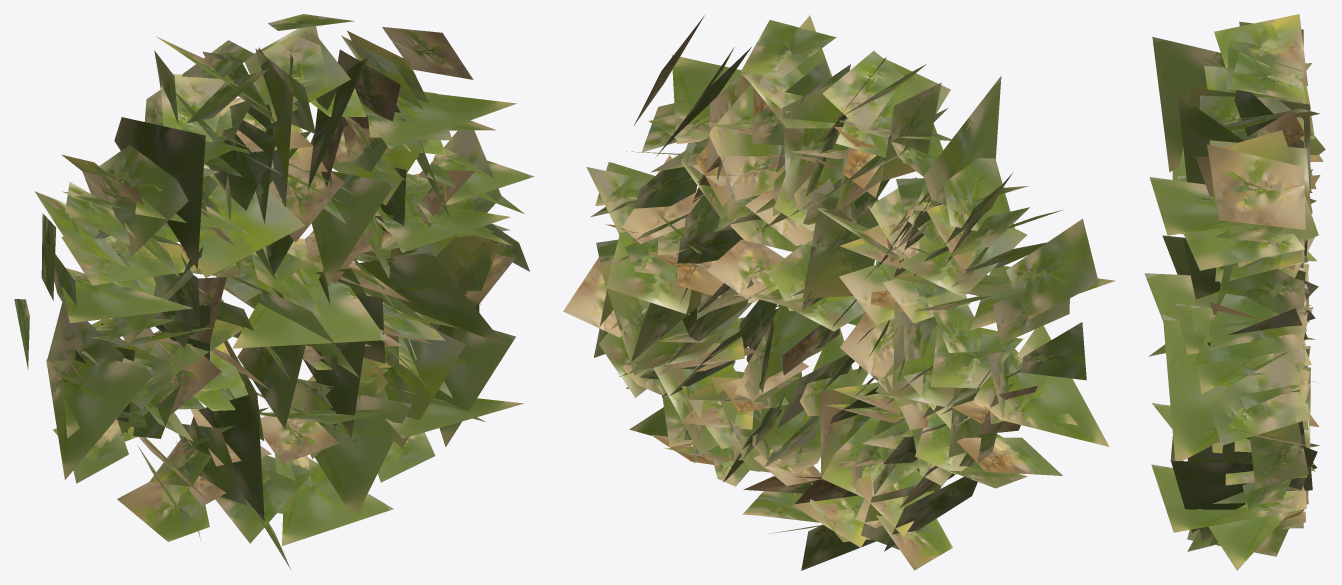
Rendered from Grass_01_Var1_LOD2.fbx.
3 renders of one model, left to right at view 1: azimuth 30°, elevation 25°; view 2: azimuth 150°, elevation 25°; view 3: azimuth 270°, elevation 25°, orthographic. The views are drawn at different scales.
Visible parts, largest first — view 1: Var1_LOD2; view 2: Var1_LOD2; view 3: Var1_LOD2.
Boxes of the visible parts, <box> form: Var1_LOD2: <box>14,14,534,569</box>; Var1_LOD2: <box>563,15,1115,570</box>; Var1_LOD2: <box>1144,14,1325,570</box>.
Bounding box in the file's own units: 85.45 × 85.46 × 28.51.
